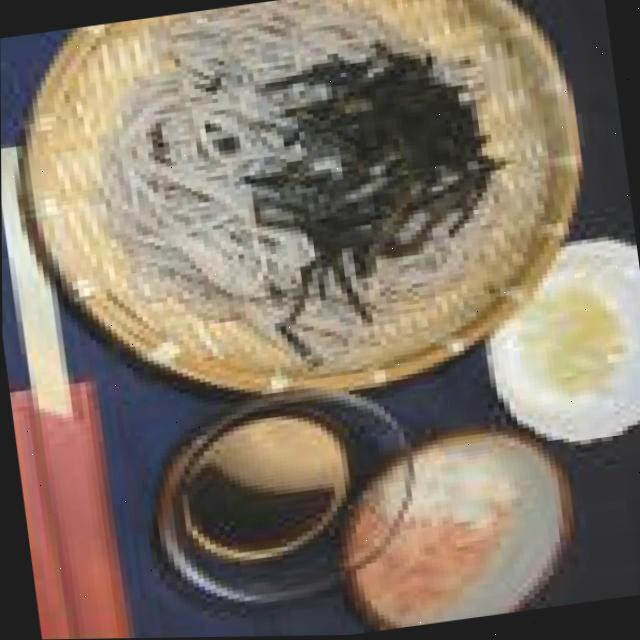面条主食: (0, 0, 618, 436)
